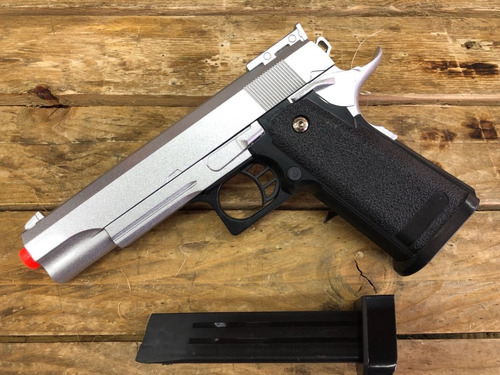Arma Falsa: (16, 27, 477, 285)
